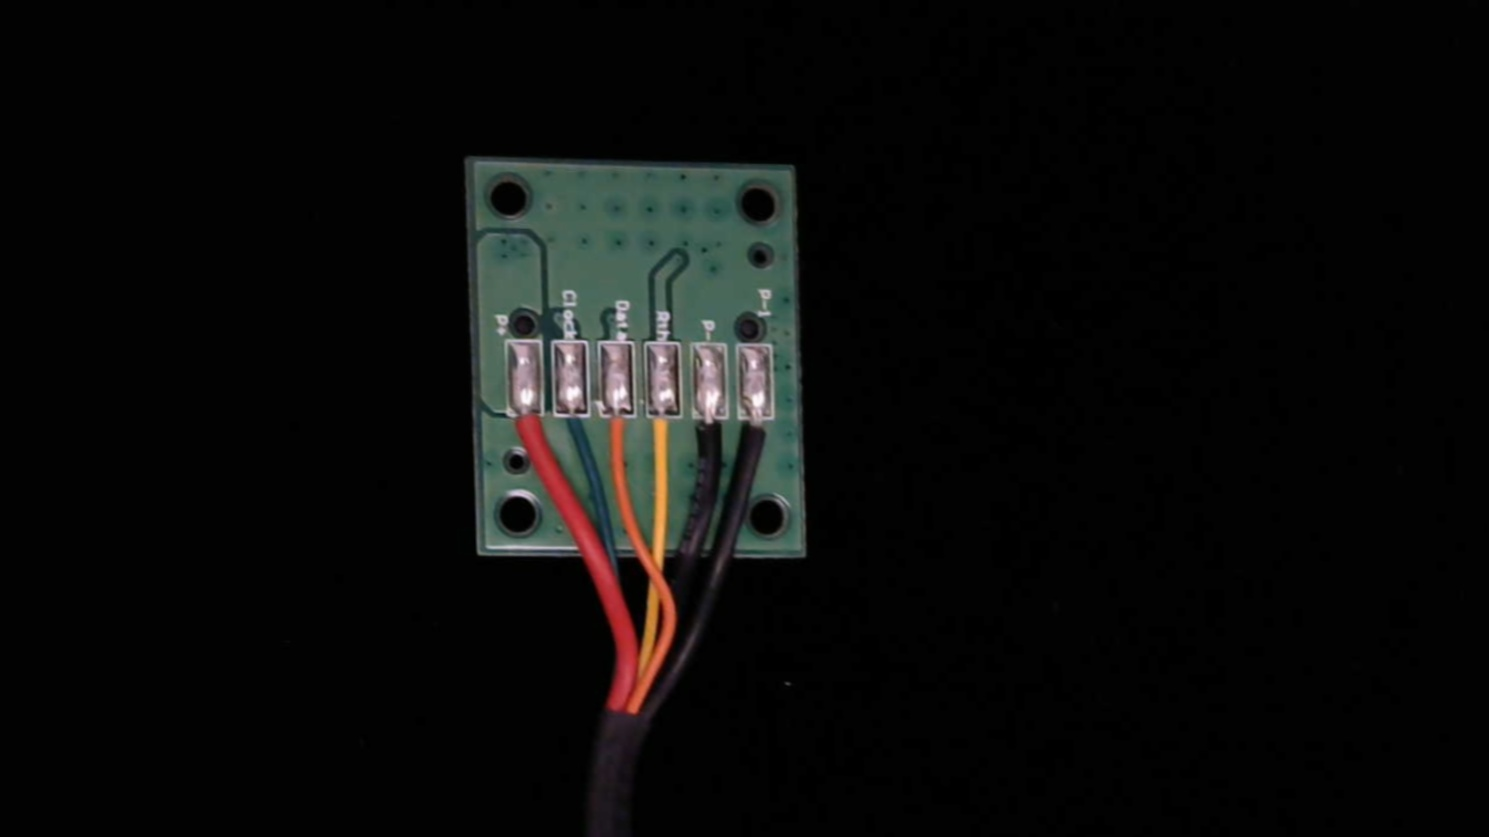Black: (691, 392, 735, 479)
Black1: (739, 395, 781, 476)
Green: (553, 392, 594, 465)
Orange: (600, 394, 642, 480)
Red: (506, 393, 550, 477)
Yellow: (641, 394, 685, 482)
